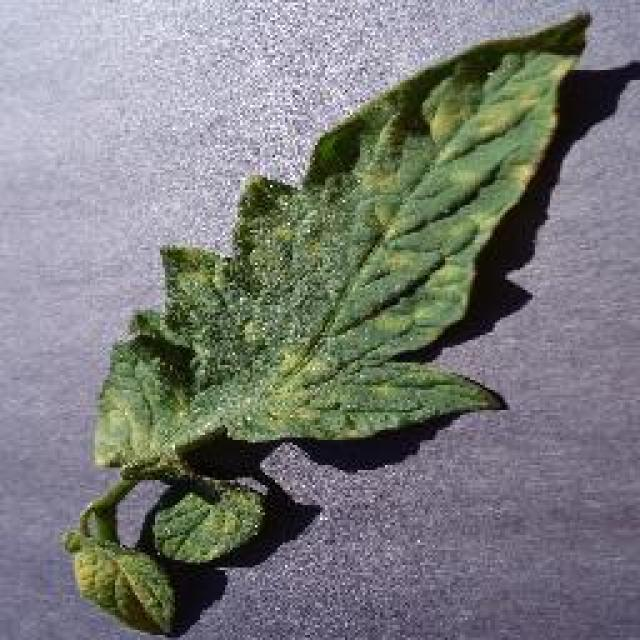Tomato mold leaf: (95, 6, 592, 444), (76, 526, 180, 638)
